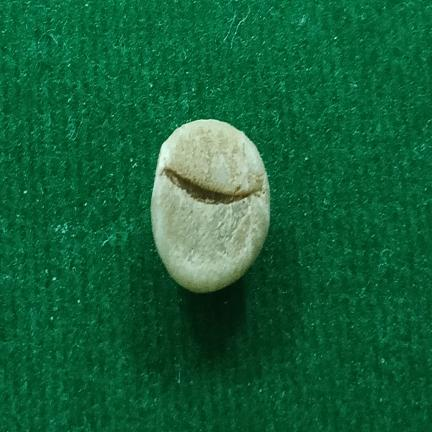cut: (151, 119, 270, 292)
